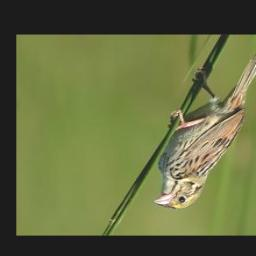Sparrow: (151, 40, 256, 210)
